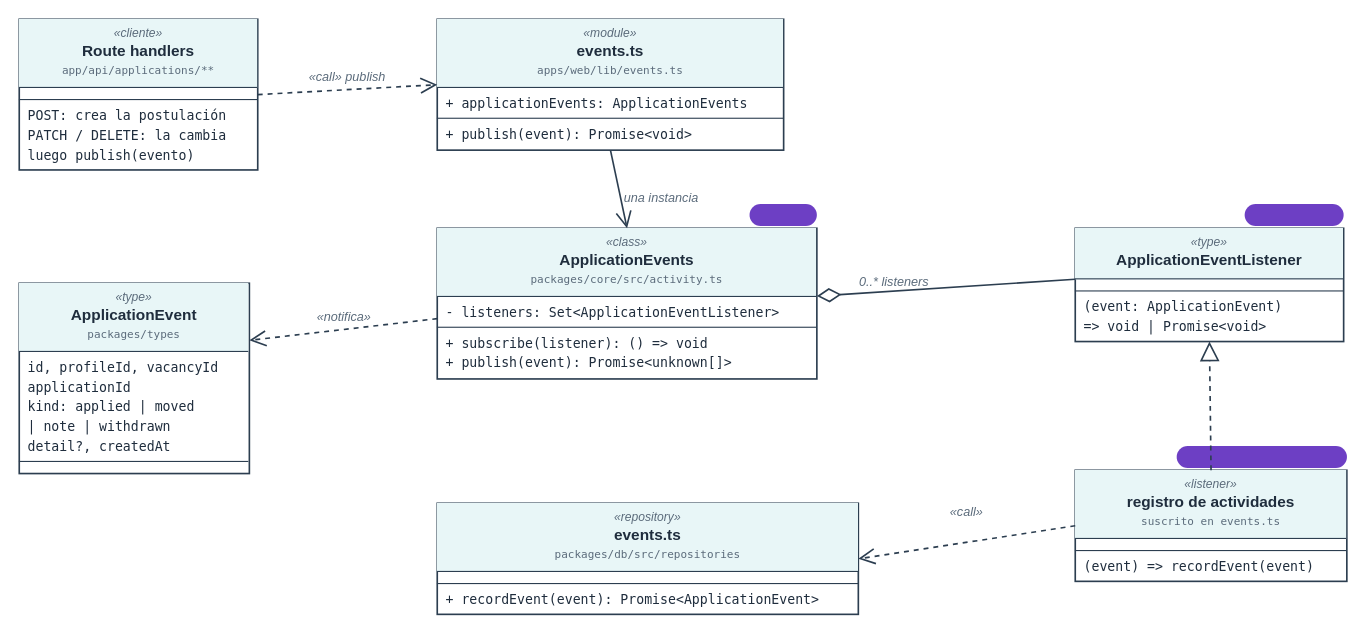
Some shapes in this 1367 by 635 pixel diagram are drawn without their labels. Here are the shapes that lost their labels. From the top down, the centre of each, then its label:
At (782,215): "Sujeto".
At (1293,215): "Observador".
At (1261,457): "Observador concreto".
